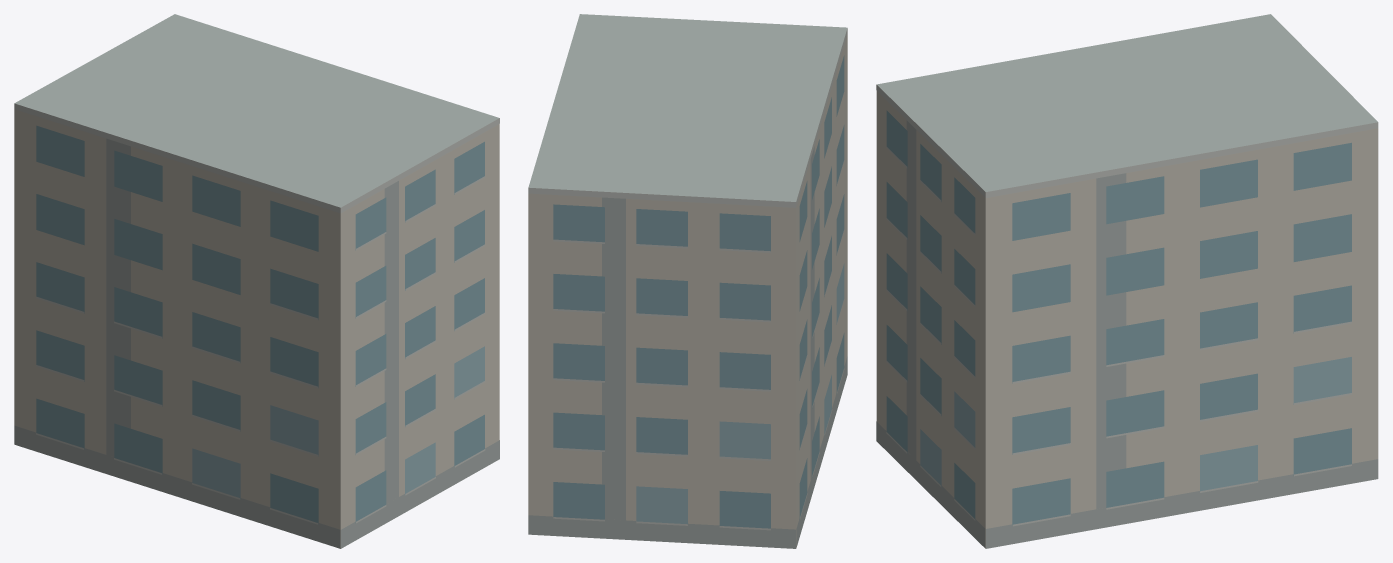
File: survey-upis-32892532.glb
The picture shows the model from 3 angles, left to right: view 1: azimuth 30°, elevation 25°; view 2: azimuth 150°, elevation 25°; view 3: azimuth 270°, elevation 25°; orthographic projection. The views are drawn at different scales.
Parts seen in each view (by area): view 1: survey-upis-32892532.tmp; view 2: survey-upis-32892532.tmp; view 3: survey-upis-32892532.tmp.
Boxes of the visible parts, x1,y1,x2,y2 form: survey-upis-32892532.tmp: [14, 14, 499, 548]; survey-upis-32892532.tmp: [528, 14, 847, 548]; survey-upis-32892532.tmp: [876, 14, 1378, 548].
Size of the model in its own units: 15.54 by 14.5 by 18.5.
